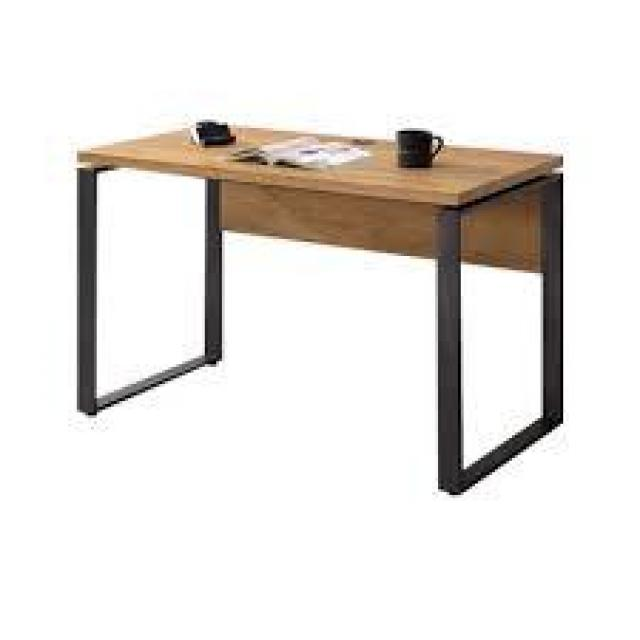table: (11, 61, 598, 525)
